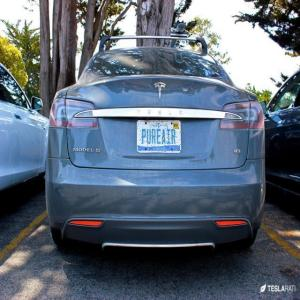Plate: (137, 120, 181, 152)
